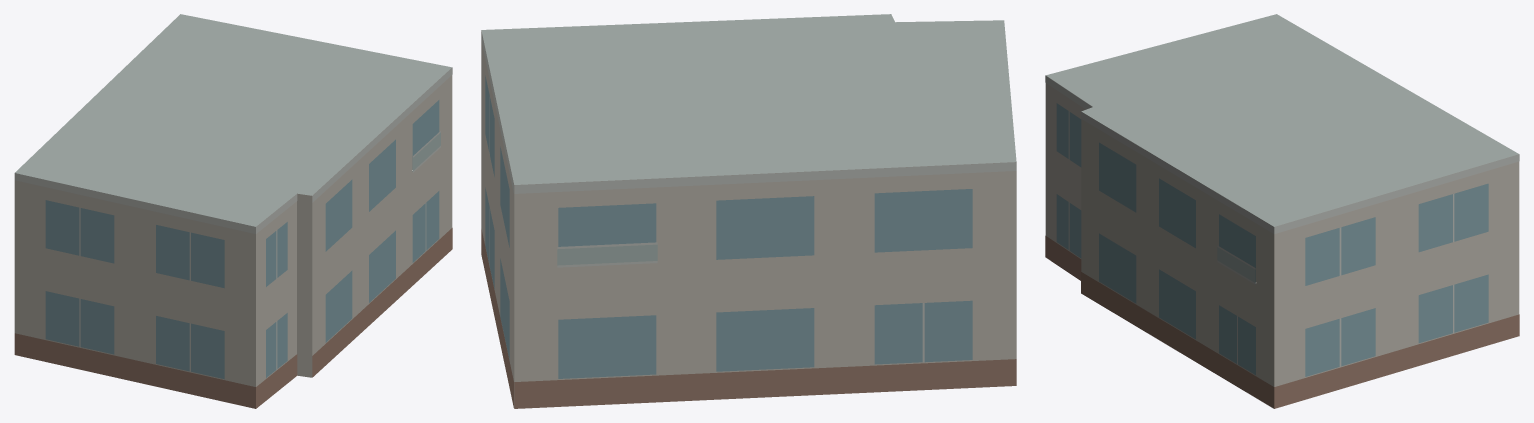
File: survey-upis-32526392.glb
The picture shows the model from 3 angles, left to right: view 1: azimuth 30°, elevation 25°; view 2: azimuth 150°, elevation 25°; view 3: azimuth 270°, elevation 25°; orthographic projection. The views are drawn at different scales.
Visible parts, largest first — view 1: survey-upis-32526392.tmp; view 2: survey-upis-32526392.tmp; view 3: survey-upis-32526392.tmp.
Part boxes in pixels (left/top/right/bottom): survey-upis-32526392.tmp: left=14, top=14, right=452, bottom=408; survey-upis-32526392.tmp: left=481, top=14, right=1016, bottom=408; survey-upis-32526392.tmp: left=1045, top=14, right=1519, bottom=408.
Bounding box in the file's own units: 15.32 × 6.1 × 14.41.
